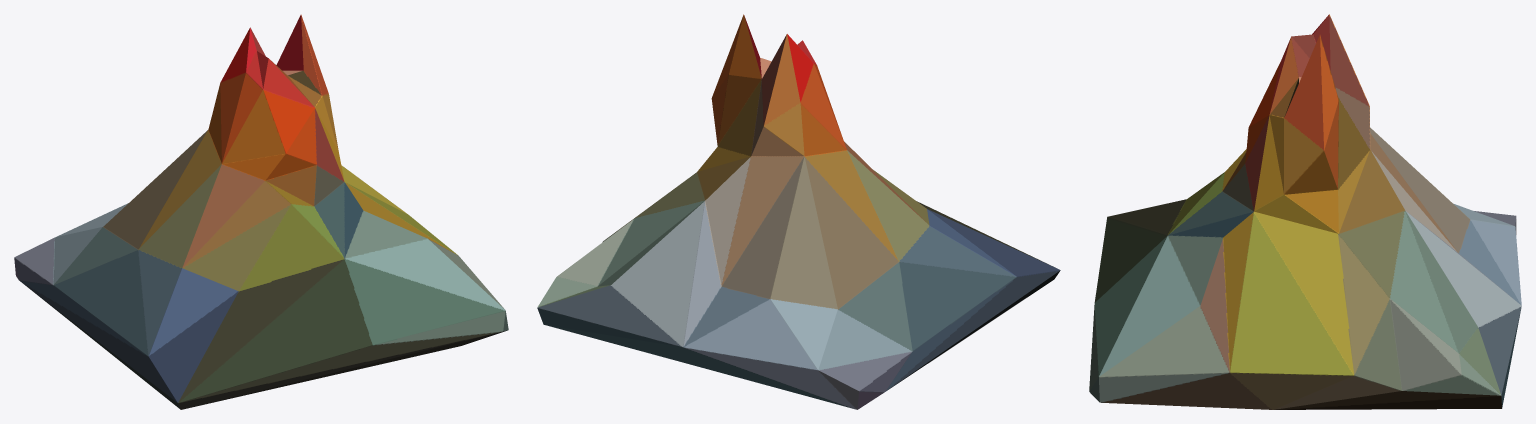
File: eruption.fbx
3 renders of one model, left to right at view 1: azimuth 30°, elevation 25°; view 2: azimuth 150°, elevation 25°; view 3: azimuth 270°, elevation 25°, orthographic. The views are drawn at different scales.
Parts seen in each view (by area): view 1: Mesh_0; view 2: Mesh_0; view 3: Mesh_0.
Part boxes in pixels (x1=…): Mesh_0: x1=14, y1=14, x2=508, y2=409; Mesh_0: x1=537, y1=14, x2=1060, y2=409; Mesh_0: x1=1089, y1=14, x2=1521, y2=409.
Bounding box in the file's own units: 119 × 96.49 × 115.
Materials: 1 (1 with a texture image).
